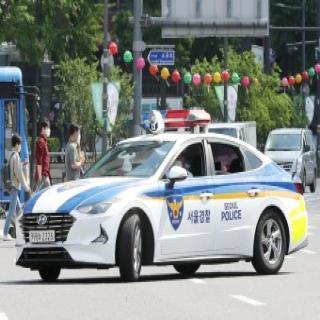Police_car: (10, 102, 310, 278)
